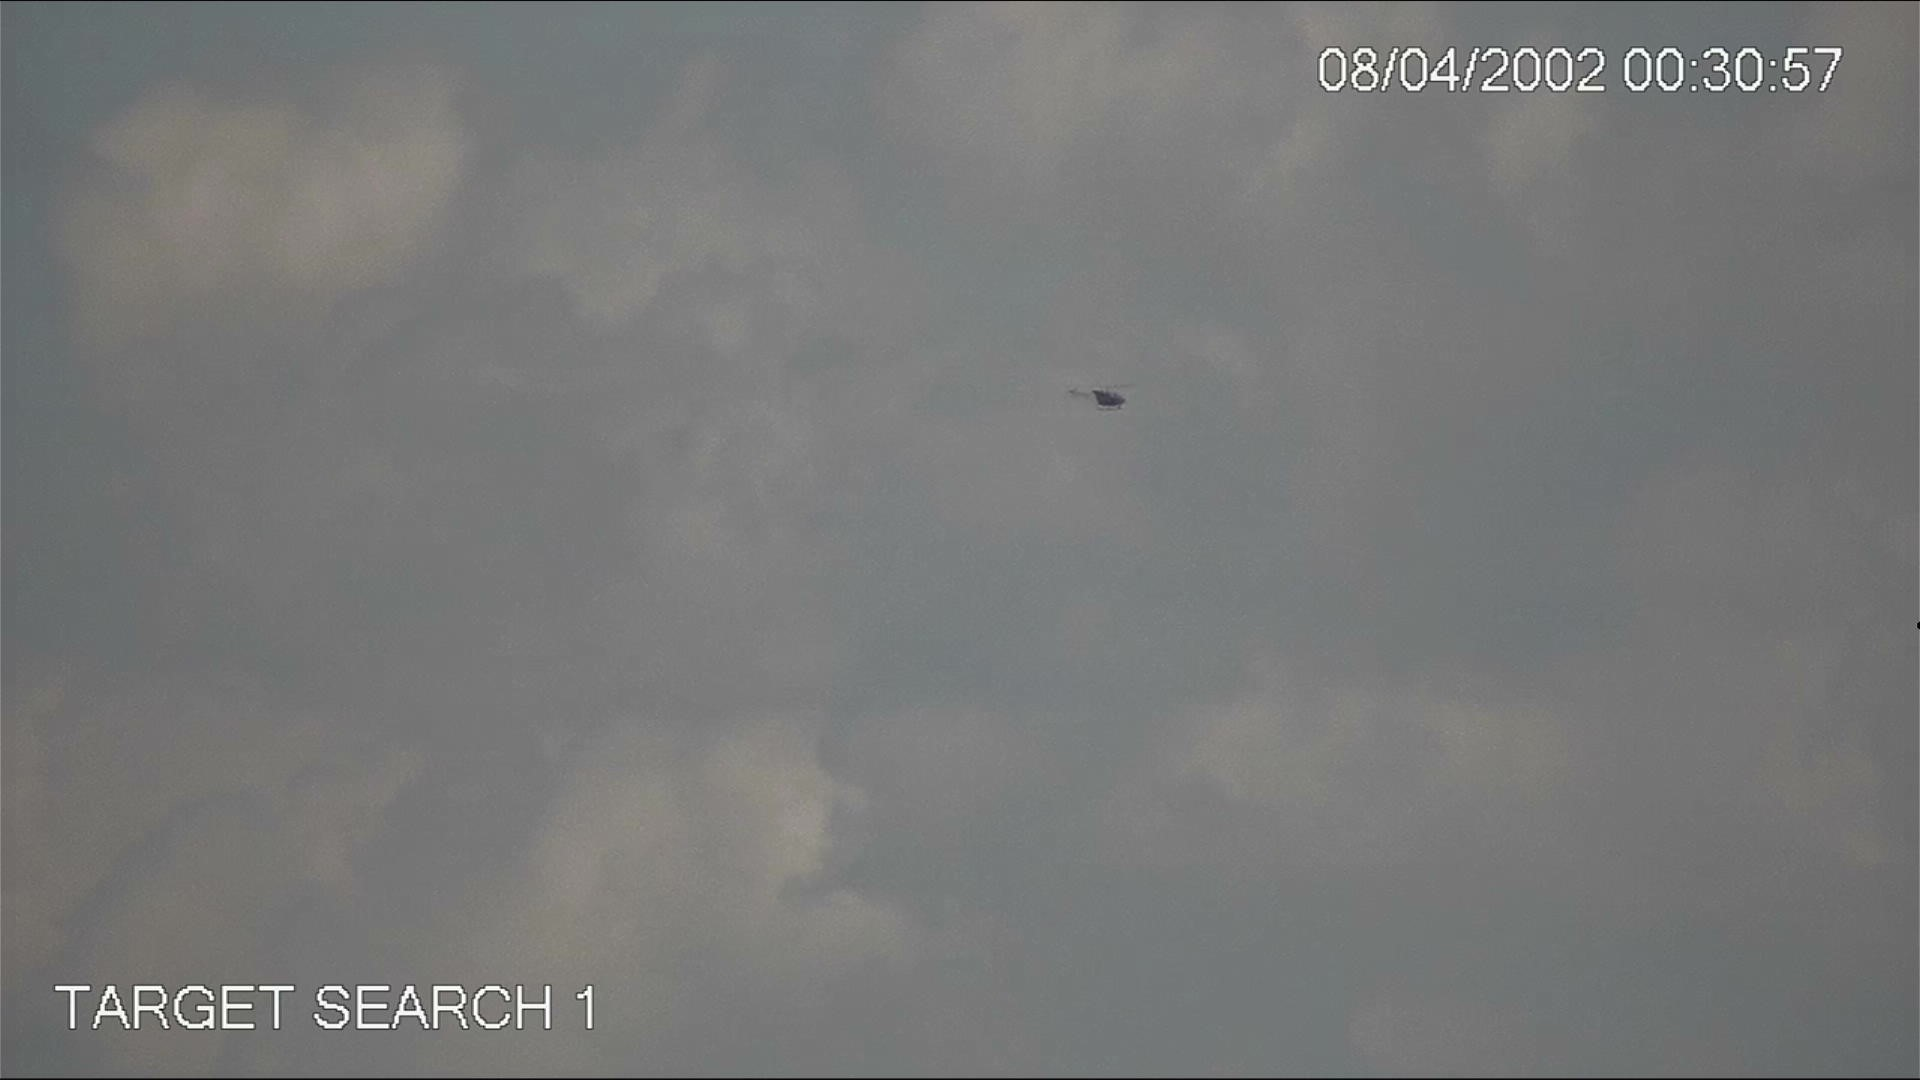SU_30: (1065, 378, 1137, 415)
